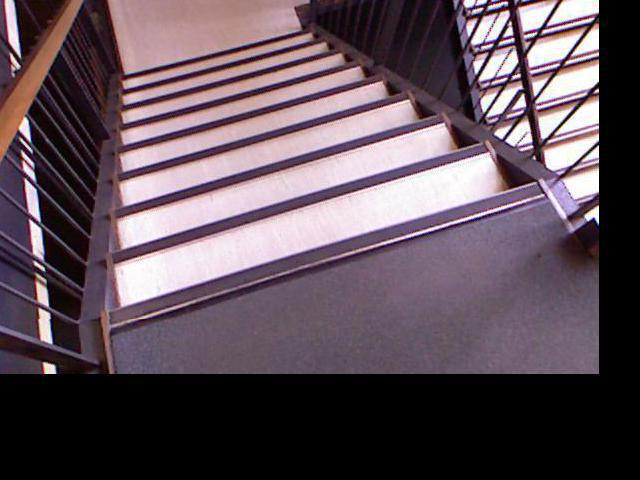Escaleras: (89, 29, 498, 329), (436, 0, 598, 303)
